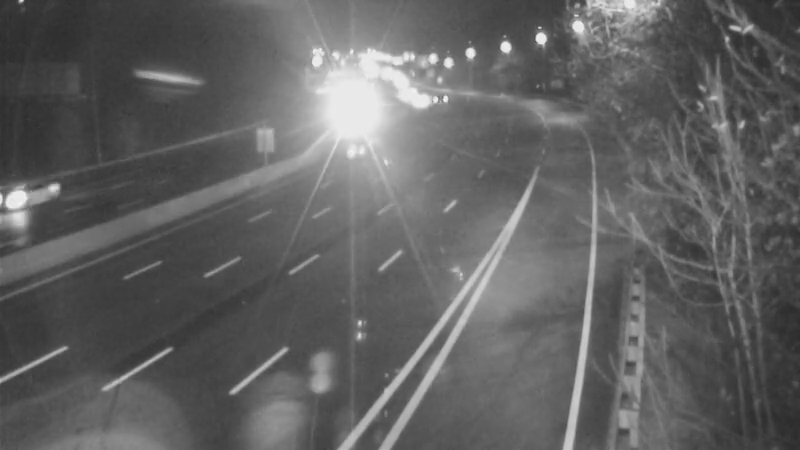vehicle: (1, 155, 77, 235), (387, 71, 437, 121), (414, 74, 464, 124), (396, 77, 446, 127)
